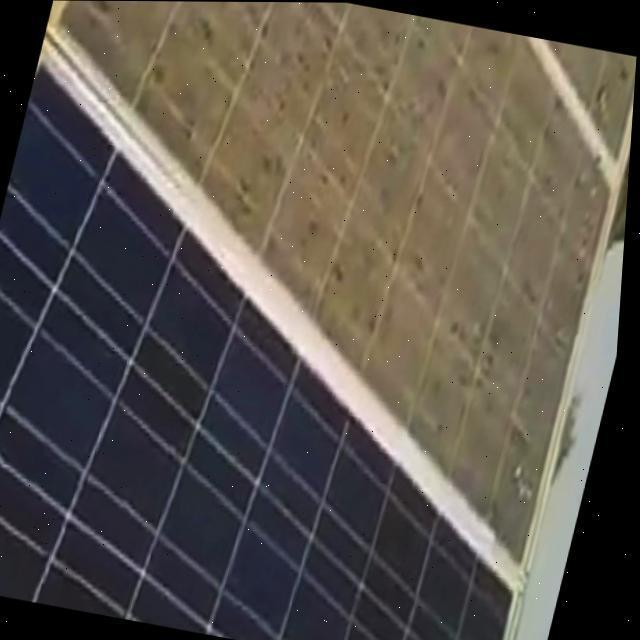Anomaly Solar Panel: (47, 0, 624, 587)
Normal Solar Panel: (0, 46, 529, 640)
Surface Contaminant: (48, 0, 620, 580)
